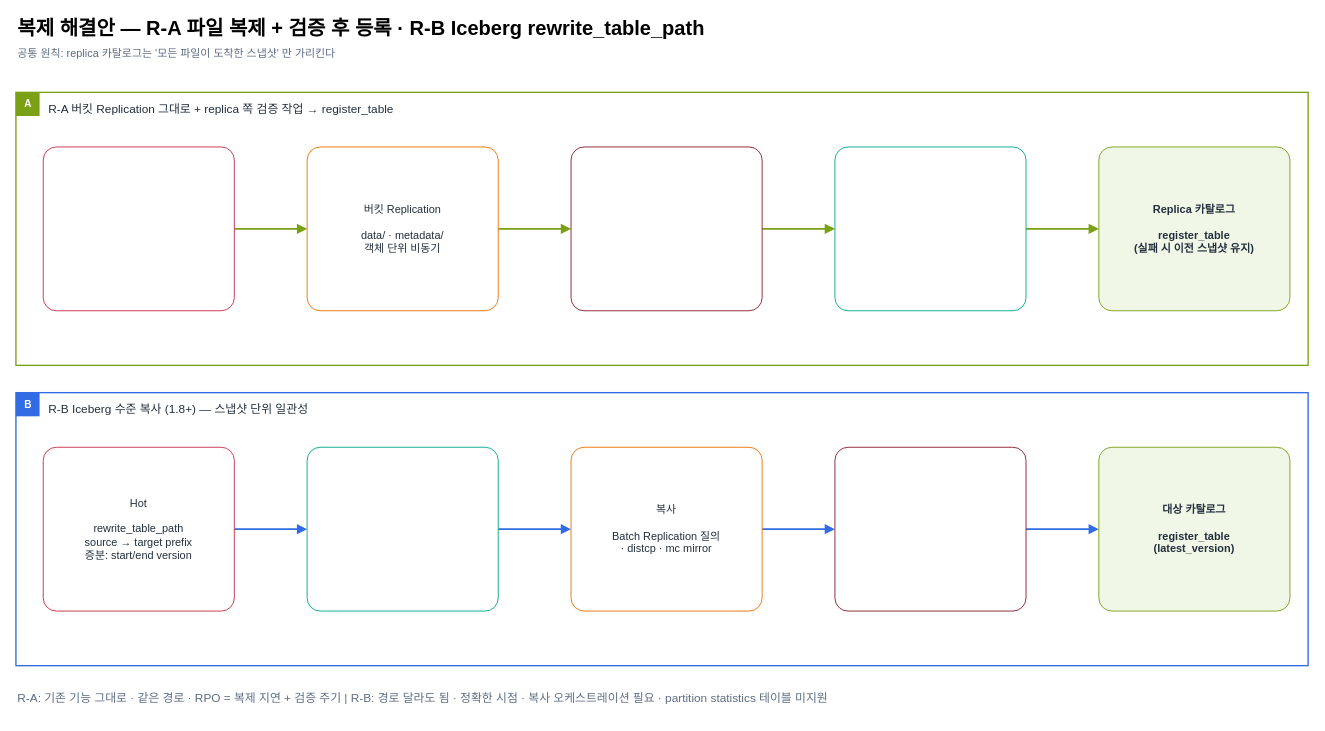
The diagram is 1325 pixels wide and 731 high, and some of its shapes have lost their labels. The centre of each missing label's shape, as x and y in pixels:
"Hot 평소 쓰기" belongs at point 138,228.
"Replica 버킷 도착 순서 무작위" belongs at point 666,228.
"검증 작업 (15분) 최신 metadata.json → manifest → data HEAD 전부 있으면 통과" belongs at point 930,228.
"대상 버킷 경로 재작성된 metadata + data" belongs at point 930,528.
"복사 목록 file_list_location (원본 → 대상 경로)" belongs at point 402,528.
